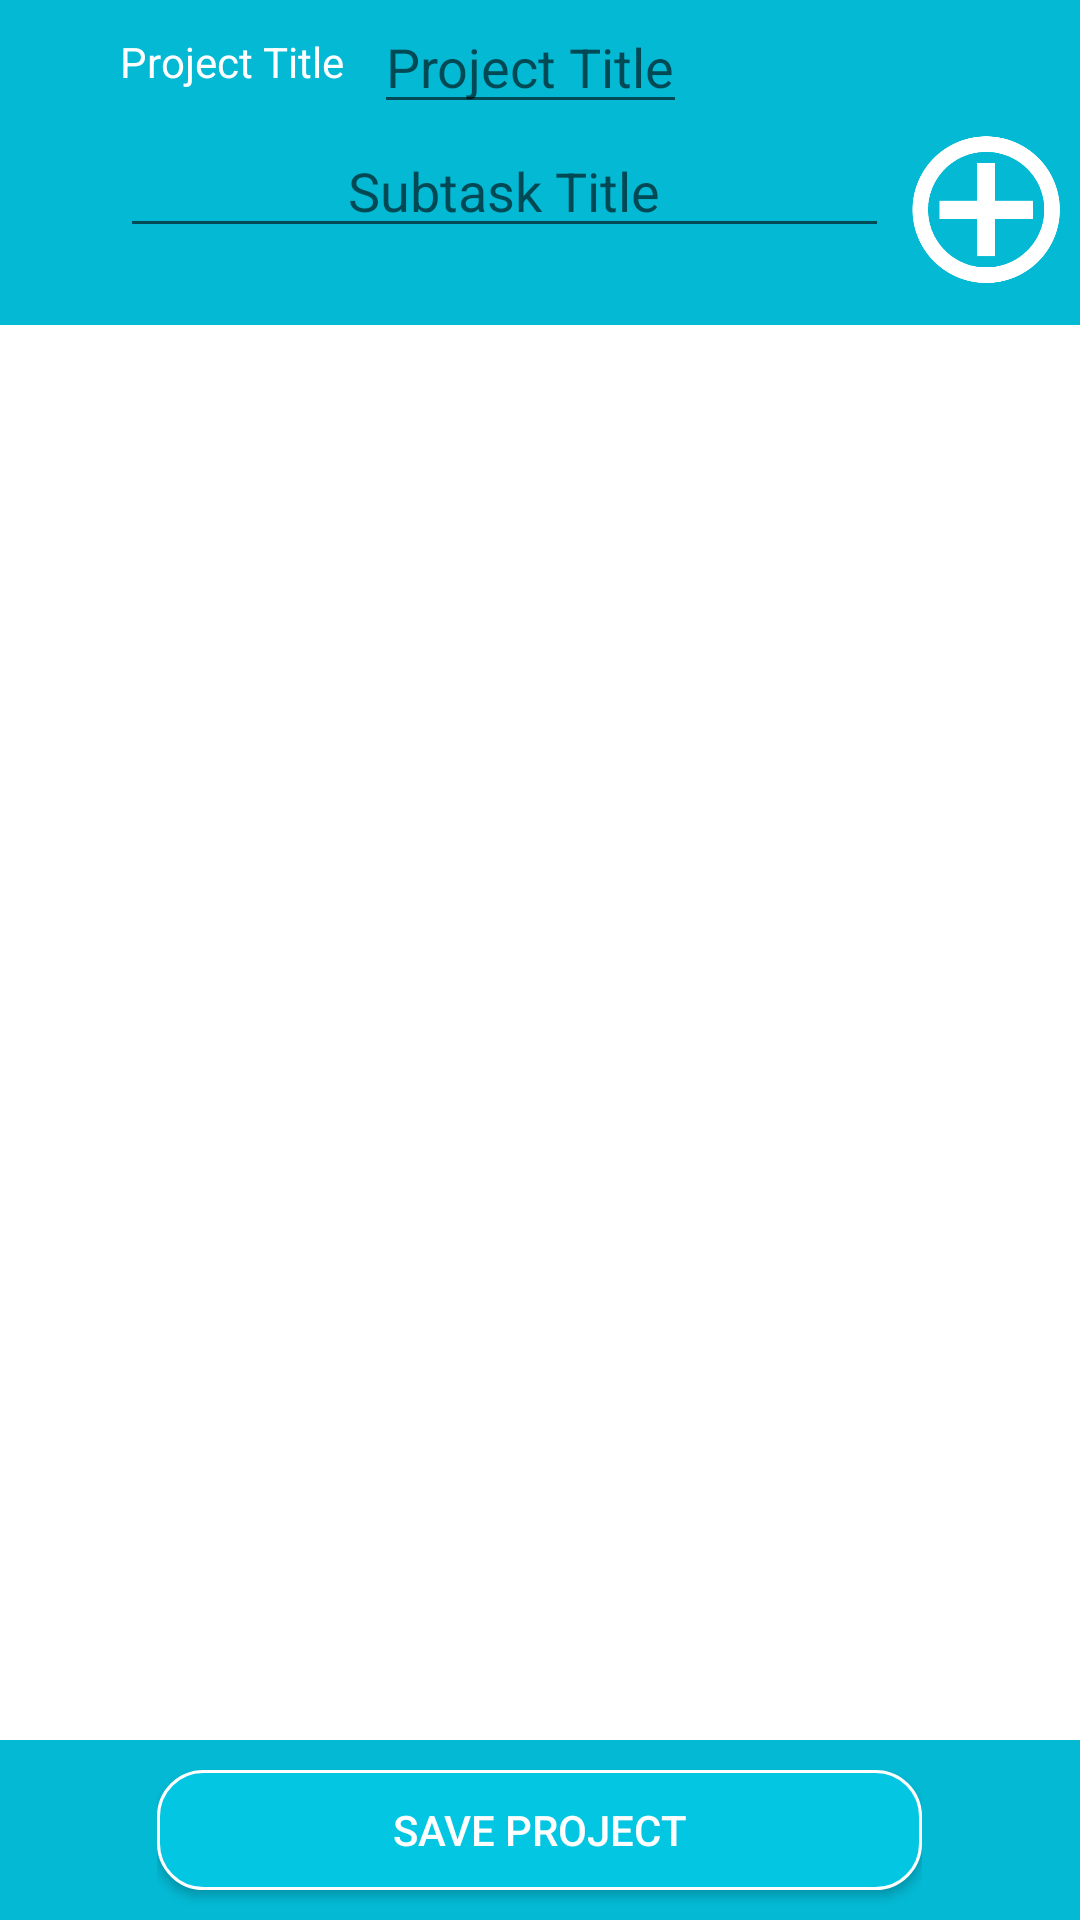

Where icons sit on this 1080*1920 app screen, as [left=x1, top=y1, right=x2, bottom=y2]:
addbtnselector: [left=912, top=136, right=1060, bottom=283]
